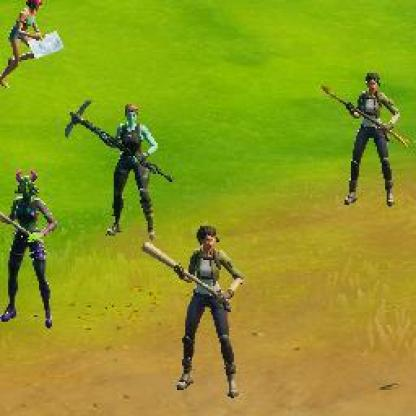Player: (172, 224, 247, 398), (0, 169, 57, 328), (96, 104, 159, 239), (343, 71, 400, 206), (0, 0, 44, 89)
